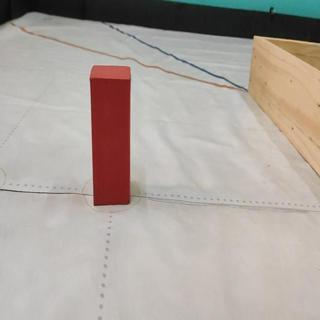redbox: (89, 64, 130, 206)
